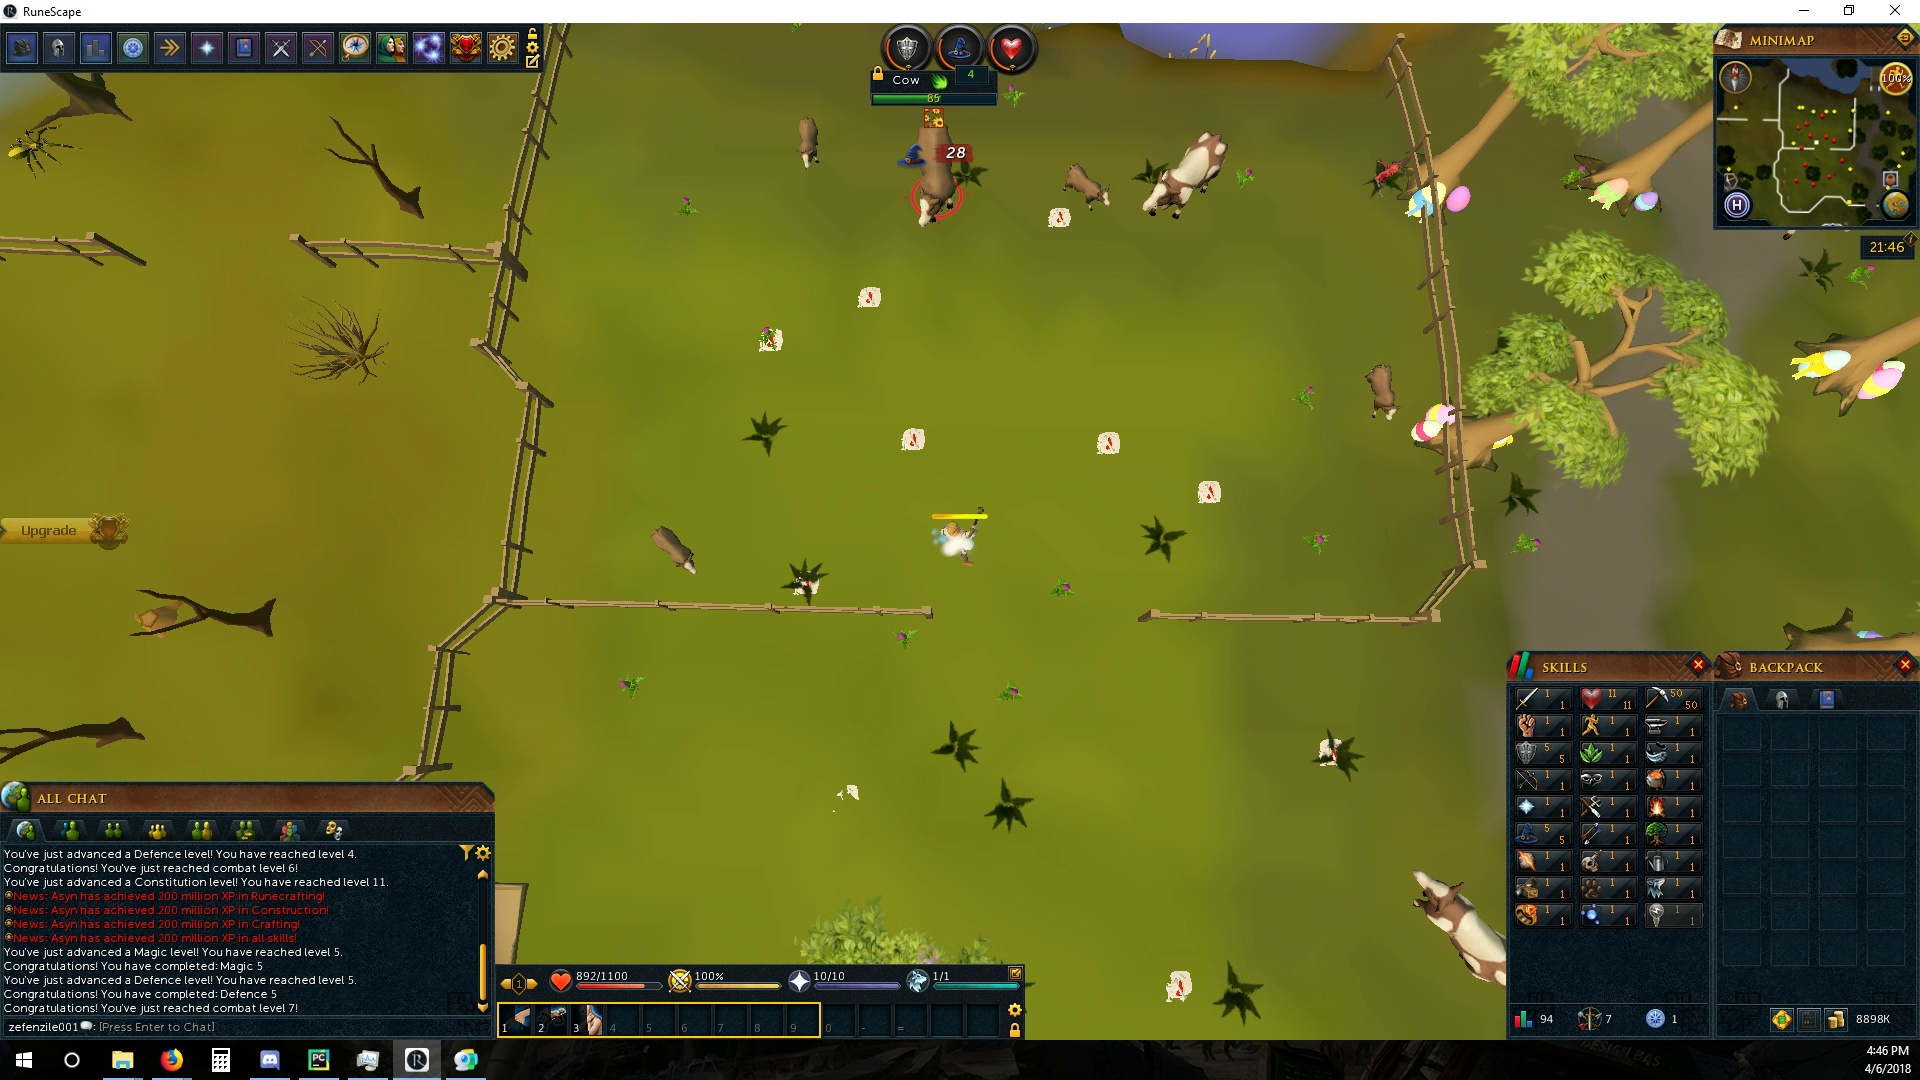calf: (1058, 164, 1116, 218), (649, 524, 702, 579), (1361, 361, 1396, 429), (790, 113, 823, 179)
cow: (1406, 864, 1509, 994), (1138, 128, 1232, 222), (907, 123, 969, 225)
cow_drop: (1158, 971, 1192, 1006), (1311, 736, 1349, 766), (895, 422, 927, 455), (855, 280, 885, 313), (1095, 427, 1124, 462), (1189, 476, 1224, 505), (1040, 202, 1069, 229), (756, 326, 782, 355)
